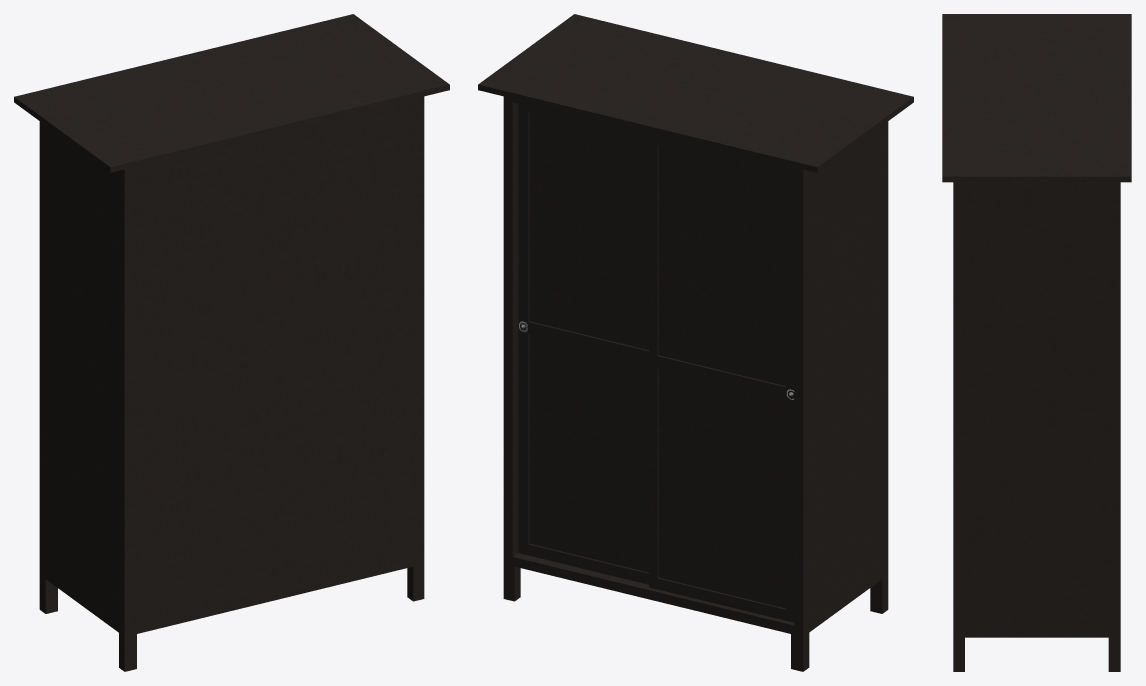
Rendered from NES_closet.obj.
The picture shows the model from 3 angles, left to right: view 1: azimuth 30°, elevation 25°; view 2: azimuth 150°, elevation 25°; view 3: azimuth 270°, elevation 25°; orthographic projection.
Visible parts, largest first — view 1: pCube25; view 2: pCube25; view 3: pCube25.
Boxes of the visible parts, <box> form: pCube25: <box>14,14,449,671</box>; pCube25: <box>478,14,913,671</box>; pCube25: <box>942,14,1131,671</box>.
Size of the model in its own units: 13.6 by 19.67 by 6.69.
1 material, 1 textured.
